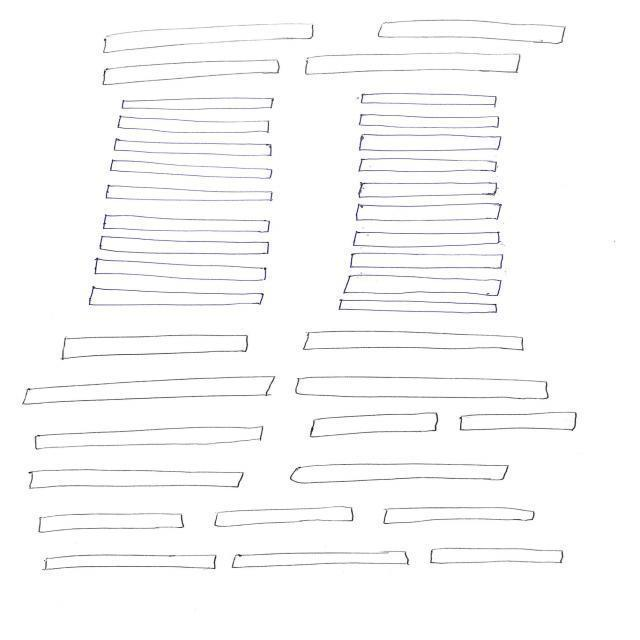textbox: (12, 373, 286, 411), (98, 11, 319, 54), (294, 372, 557, 405), (293, 327, 532, 361), (368, 14, 577, 47), (33, 543, 222, 579), (47, 332, 256, 362), (425, 540, 579, 578), (286, 461, 513, 486), (207, 499, 361, 534), (84, 286, 268, 314), (91, 234, 281, 258), (304, 409, 445, 441), (101, 183, 279, 207), (376, 504, 545, 528), (354, 132, 508, 156), (350, 228, 508, 251), (353, 180, 506, 201), (352, 90, 504, 111), (118, 95, 282, 114)
